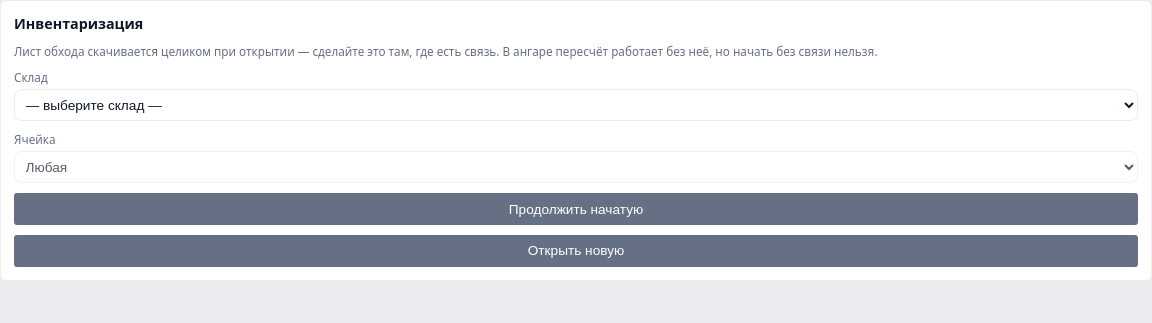
Test case: выборка при открытии пересчёта › счётчик меняется при выборе склада и ячейки
Select "Ткацкая" in the dropdown labelled "Склад": (576, 105) [14,89,1138,121]
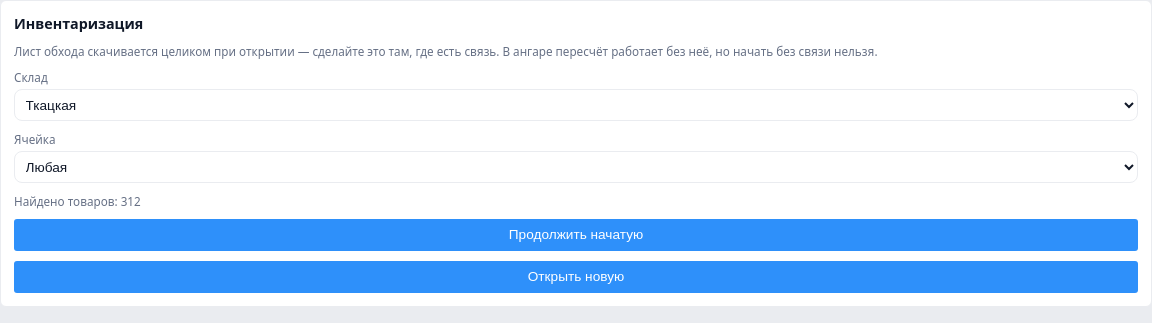
Check: the text "Найдено товаров: 312" is shown, box [14,193,141,209]
Select "А-01-1" in the dropdown labelled "Ячейка": (576, 167) [14,151,1138,183]
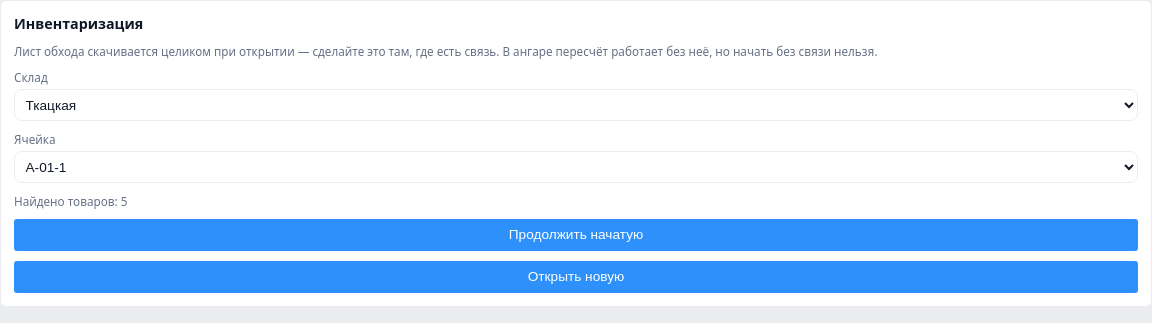
Check: the text "Найдено товаров: 5" is shown, box [14,193,127,209]
